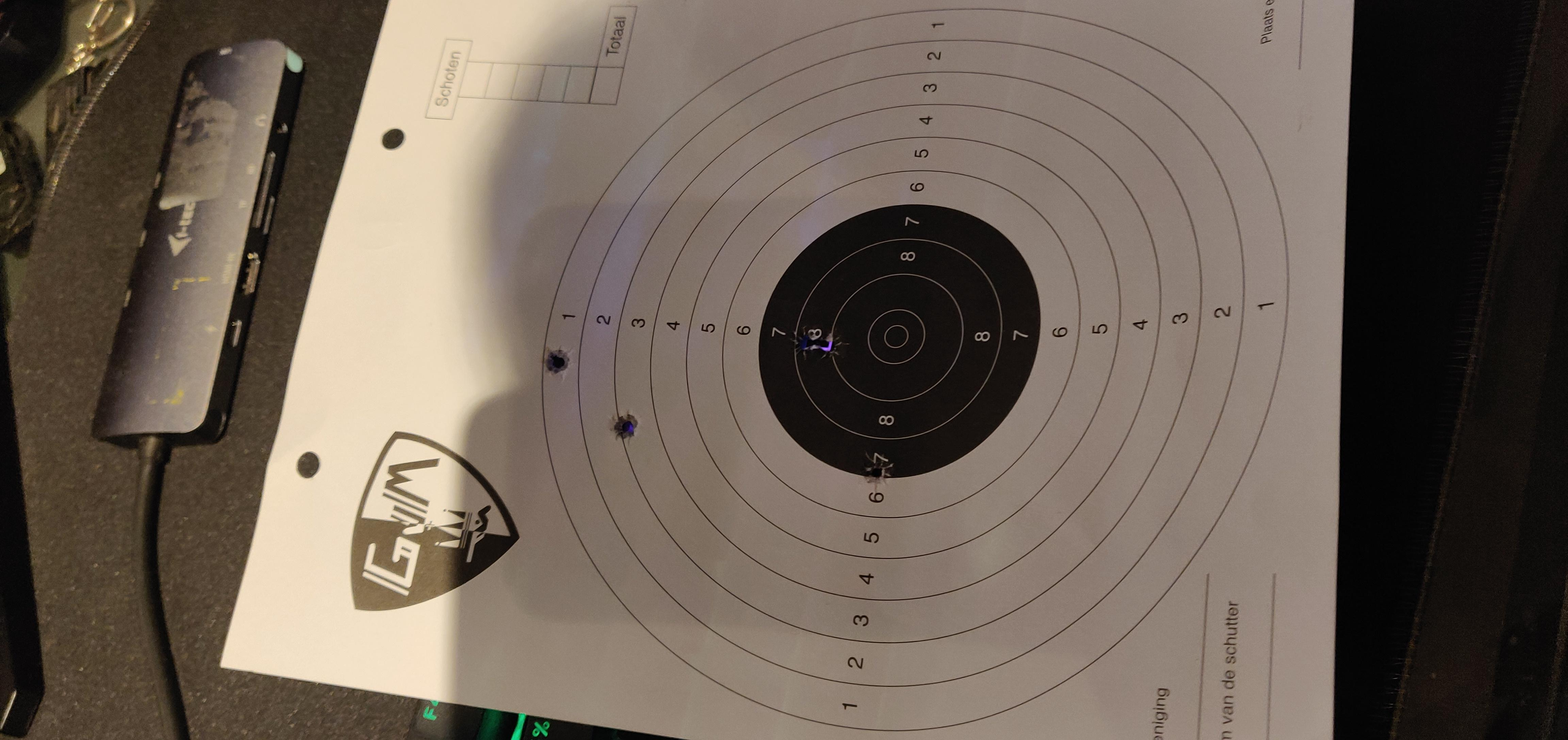hole: (627, 286, 704, 302), (531, 407, 610, 422), (767, 256, 841, 271), (800, 385, 870, 400), (810, 373, 874, 385)
